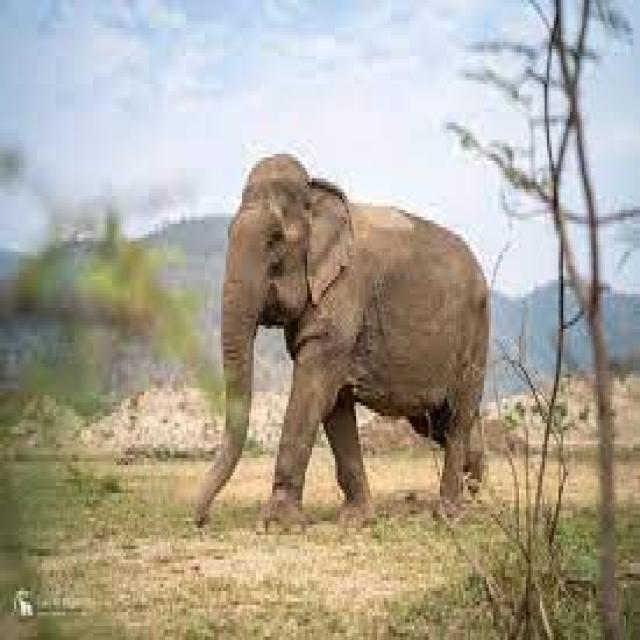Elephant: (172, 144, 520, 565)
